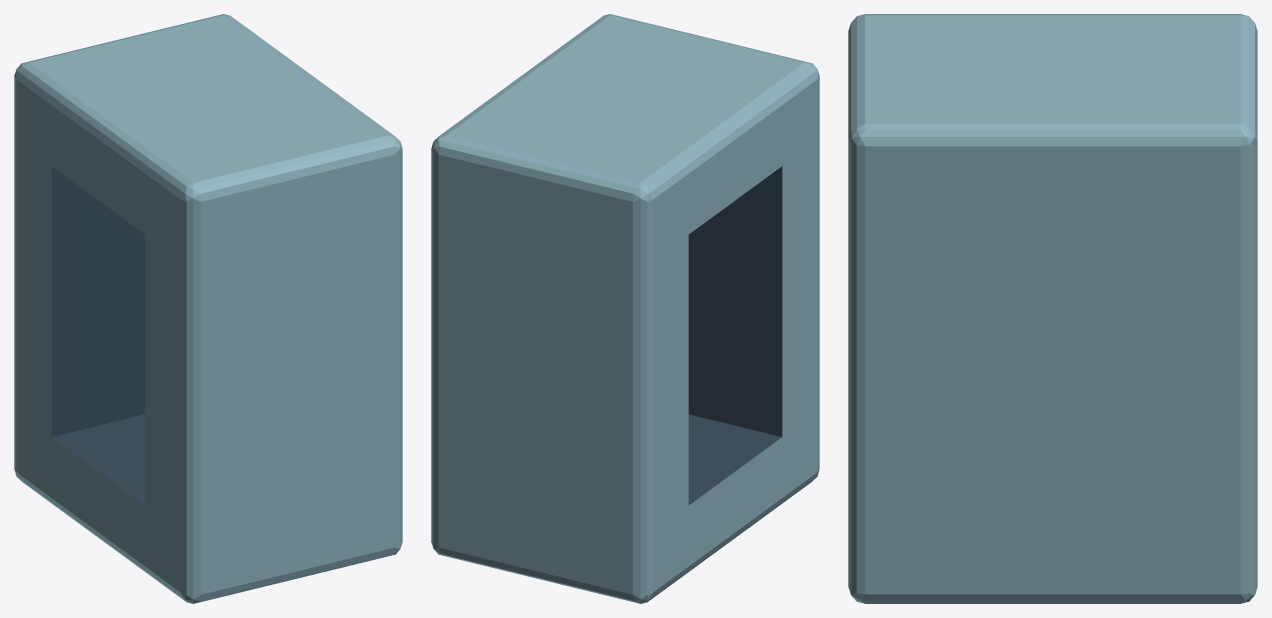
The picture shows the model from 3 angles, left to right: view 1: azimuth 30°, elevation 25°; view 2: azimuth 150°, elevation 25°; view 3: azimuth 270°, elevation 25°; orthographic projection. The views are drawn at different scales.
Parts seen in each view (by area): view 1: geometry_0; view 2: geometry_0; view 3: geometry_0.
Boxes of the visible parts, box(x1,y1,x2,y2) form: geometry_0: box(14, 14, 402, 603); geometry_0: box(431, 14, 819, 603); geometry_0: box(848, 14, 1257, 603).
Size of the model in its own units: 0.017 by 0.031 by 0.024.
1 material, 1 textured.
